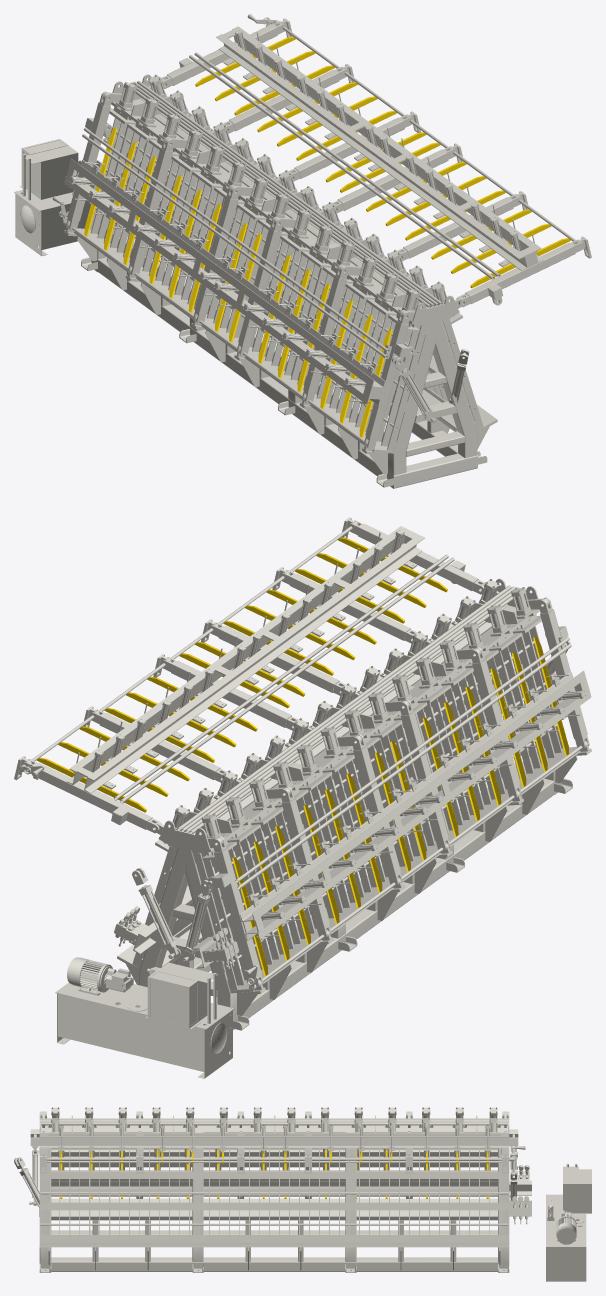
3 views of the same model, one above another, from view 1: azimuth 30°, elevation 25°; view 2: azimuth 150°, elevation 25°; view 3: azimuth 270°, elevation 25° (orthographic). The views are drawn at different scales.
Parts seen in each view (by area): view 1: 05_01_01_ipt, 06_02_02_ipt (×2), 04_01_01_ipt; view 2: 05_01_01_ipt, 04_01_01_ipt, 06_02_02_ipt (×2); view 3: 05_01_01_ipt, 04_01_01_ipt, 06_02_02_ipt (×2).
Boxes of the visible parts, bbox=[...] form: 05_01_01_ipt: bbox=[52, 14, 591, 488]; 06_02_02_ipt (×2): bbox=[84, 36, 570, 438]; 04_01_01_ipt: bbox=[14, 139, 158, 256]; 05_01_01_ipt: bbox=[14, 517, 591, 1030]; 04_01_01_ipt: bbox=[55, 957, 234, 1078]; 06_02_02_ipt (×2): bbox=[36, 537, 569, 976]; 05_01_01_ipt: bbox=[14, 1107, 531, 1272]; 04_01_01_ipt: bbox=[546, 1163, 591, 1281]; 06_02_02_ipt (×2): bbox=[60, 1149, 488, 1198].
Size of the model in its own units: 0.2747 by 0.241 by 0.7633.
